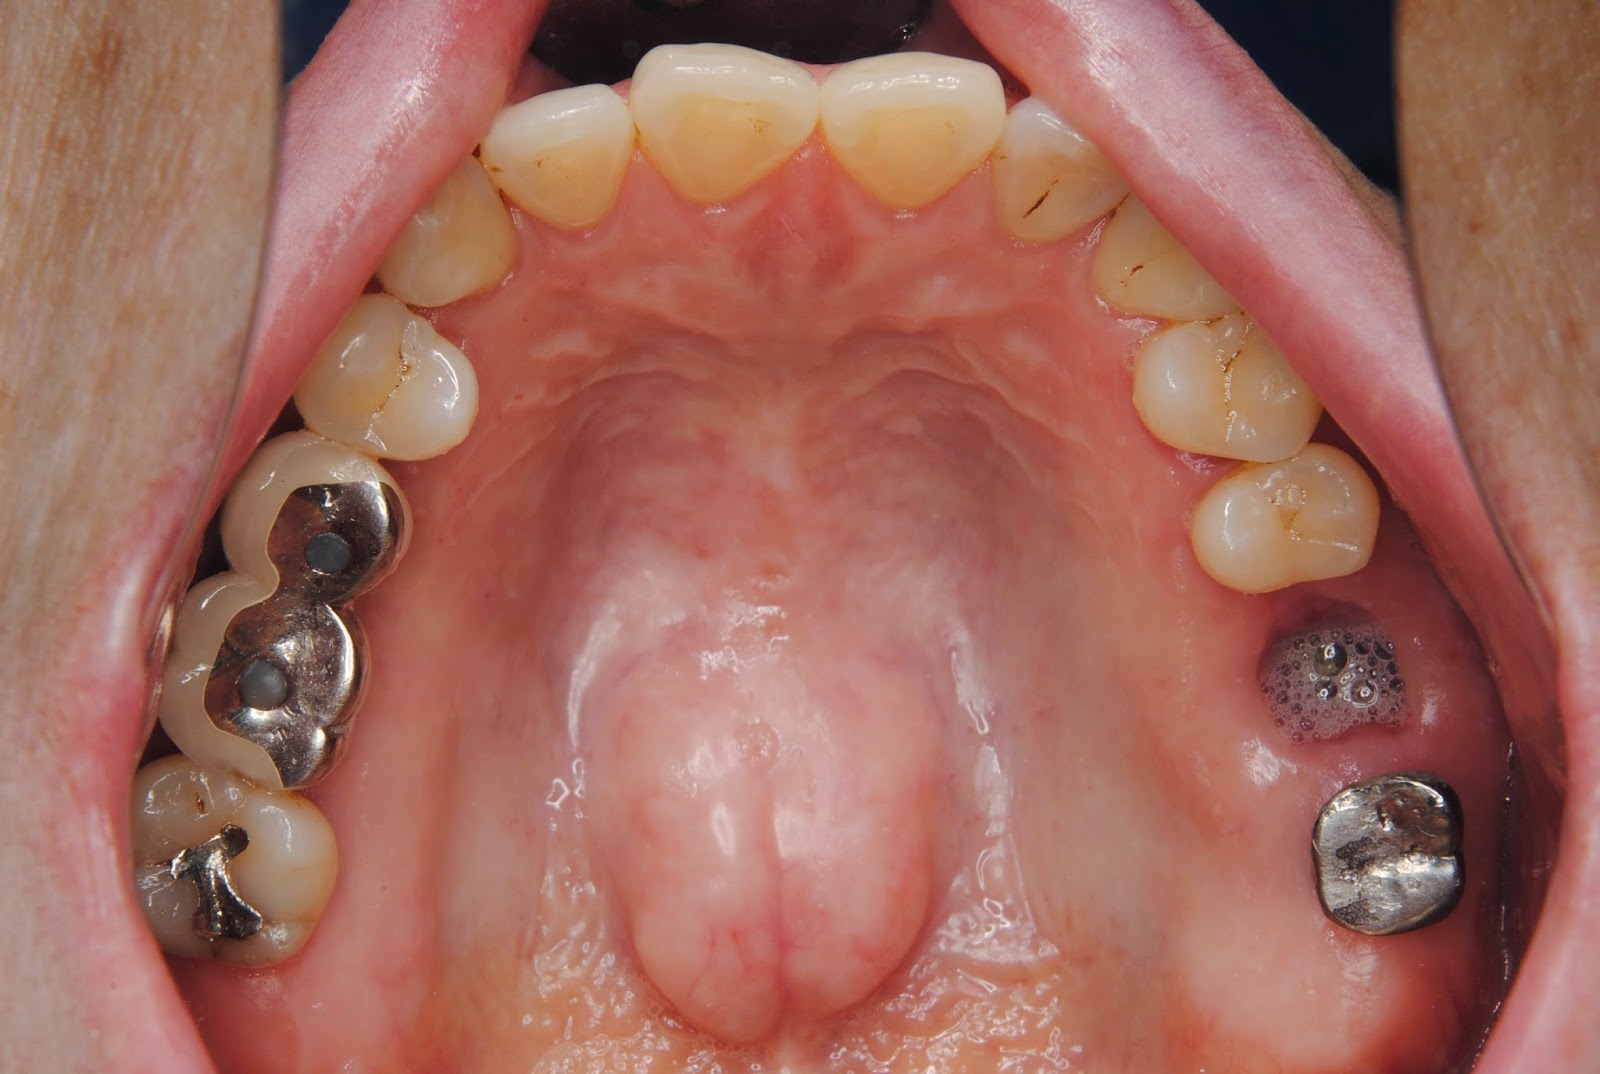UL1BC_decay: (1148, 318, 1285, 458)
UL1M_decay: (1234, 591, 1438, 773)
UL2BC_healthy: (1204, 452, 1375, 593)
UL2M_decay: (1272, 764, 1487, 958)
ULCI_healthy: (819, 55, 1004, 205)
ULC_decay: (1101, 211, 1226, 322)
ULLI_decay: (1001, 105, 1127, 240)
UR1BC_decay: (313, 304, 482, 464)
UR1M_decay: (164, 583, 364, 785)
UR2BC_decay: (228, 446, 401, 591)
UR2M_decay: (140, 767, 330, 964)
URCI_healthy: (634, 43, 816, 203)
URC_healthy: (407, 194, 511, 310)
URLI_healthy: (487, 88, 635, 230)
